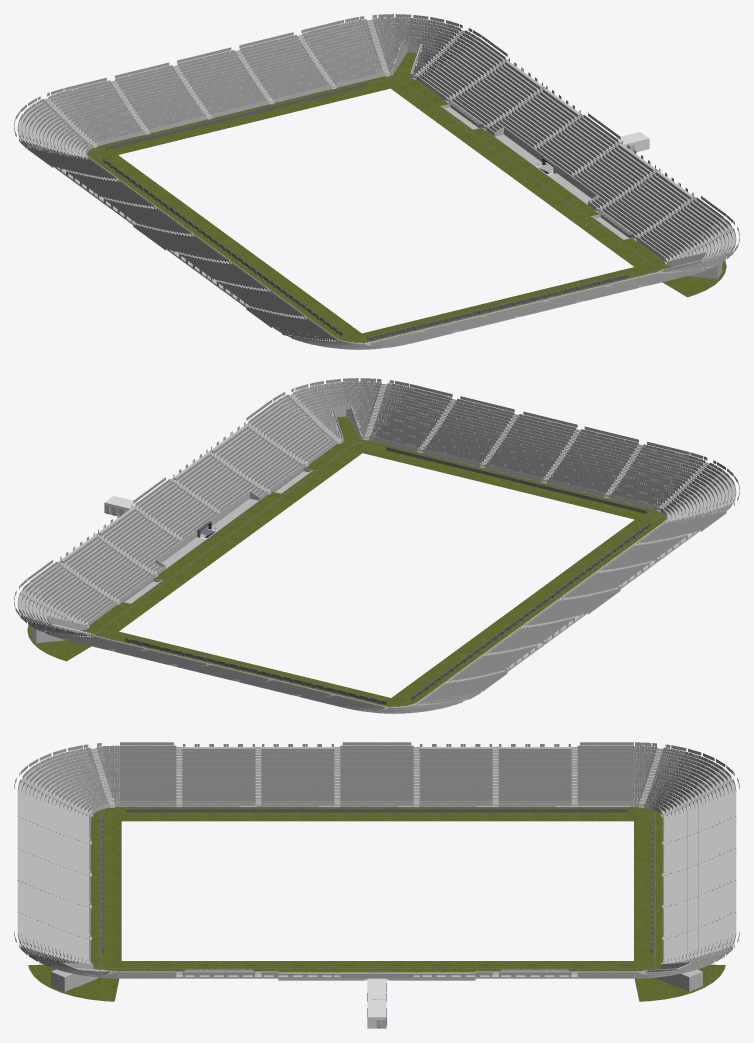
Rendered from PitchSide.fbx.
3 views of the same model, one above another, from view 1: azimuth 30°, elevation 25°; view 2: azimuth 150°, elevation 25°; view 3: azimuth 270°, elevation 25° (orthographic). The views are drawn at different scales.
Visible parts, largest first — view 1: SeatsPitchside, ConcreteBasePitchside, TrimPitchside, MetalBlackPitchside, SteelPitchside, MetalDugoutWallsPitchside; view 2: SeatsPitchside, ConcreteBasePitchside, TrimPitchside, MetalBlackPitchside, SteelPitchside; view 3: ConcreteBasePitchside, SeatsPitchside, TrimPitchside, MetalBlackPitchside, SteelPitchside, MetalDugoutWallsPitchside.
Boxes of the visible parts, left/top/right/bottom form: SeatsPitchside: left=14, top=14, right=739, bottom=349; ConcreteBasePitchside: left=17, top=19, right=736, bottom=349; TrimPitchside: left=87, top=52, right=726, bottom=343; MetalBlackPitchside: left=87, top=75, right=667, bottom=340; SteelPitchside: left=85, top=40, right=707, bottom=342; MetalDugoutWallsPitchside: left=536, top=132, right=649, bottom=175; SeatsPitchside: left=14, top=378, right=739, bottom=713; ConcreteBasePitchside: left=17, top=383, right=736, bottom=713; TrimPitchside: left=27, top=416, right=666, bottom=707; MetalBlackPitchside: left=86, top=439, right=666, bottom=704; SteelPitchside: left=46, top=404, right=668, bottom=706; ConcreteBasePitchside: left=17, top=747, right=736, bottom=991; SeatsPitchside: left=14, top=742, right=739, bottom=978; TrimPitchside: left=28, top=807, right=725, bottom=1001; MetalBlackPitchside: left=90, top=807, right=663, bottom=999; SteelPitchside: left=63, top=801, right=690, bottom=972; MetalDugoutWallsPitchside: left=364, top=978, right=389, bottom=1028.
Bounding box in the file's own units: 12370 × 882 × 14937.
